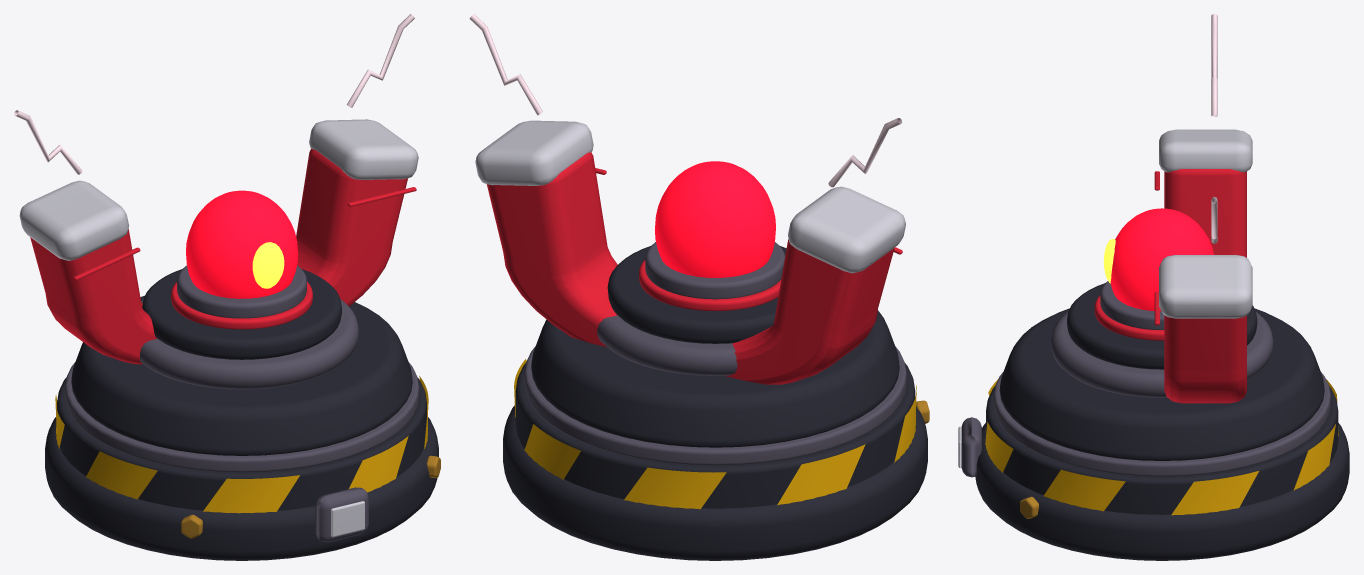
Rendered from magnet-mine.fbx.
3 renders of one model, left to right at view 1: azimuth 30°, elevation 25°; view 2: azimuth 150°, elevation 25°; view 3: azimuth 270°, elevation 25°, orthographic. The views are drawn at different scales.
Visible parts, largest first — view 1: Item_Base_charcoal_rubber, Item_Magnet_lacquer_red, Item_Base_rim_steel, Item_Magnet_brushed_pole_caps, Item_Magnet_red_warning_glass, Item_Base_safety_yellow, FX_VFX_pink_magnetic_sparks, Item_Magnet_warning_filament; view 2: Item_Base_charcoal_rubber, Item_Magnet_lacquer_red, Item_Base_rim_steel, Item_Magnet_brushed_pole_caps, Item_Magnet_red_warning_glass, Item_Base_safety_yellow, FX_VFX_pink_magnetic_sparks; view 3: Item_Base_charcoal_rubber, Item_Base_rim_steel, Item_Magnet_lacquer_red, Item_Magnet_brushed_pole_caps, Item_Base_safety_yellow, Item_Magnet_red_warning_glass, FX_VFX_pink_magnetic_sparks.
Part boxes in pixels (<box>): Item_Base_charcoal_rubber: <box>45,269,438,560</box>; Item_Magnet_lacquer_red: <box>30,148,416,364</box>; Item_Base_rim_steel: <box>65,265,419,542</box>; Item_Magnet_brushed_pole_caps: <box>19,119,418,537</box>; Item_Magnet_red_warning_glass: <box>186,190,298,298</box>; Item_Base_safety_yellow: <box>55,376,428,513</box>; FX_VFX_pink_magnetic_sparks: <box>14,14,414,174</box>; Item_Magnet_warning_filament: <box>252,242,284,288</box>; Item_Base_charcoal_rubber: <box>503,246,927,560</box>; Item_Magnet_lacquer_red: <box>486,152,902,384</box>; Item_Base_rim_steel: <box>524,242,906,465</box>; Item_Magnet_brushed_pole_caps: <box>475,120,905,273</box>; Item_Magnet_red_warning_glass: <box>655,161,775,277</box>; Item_Base_safety_yellow: <box>514,359,916,509</box>; FX_VFX_pink_magnetic_sparks: <box>469,14,901,187</box>; Item_Base_charcoal_rubber: <box>975,283,1349,560</box>; Item_Base_rim_steel: <box>961,281,1330,477</box>; Item_Magnet_lacquer_red: <box>1094,169,1246,403</box>; Item_Magnet_brushed_pole_caps: <box>958,129,1252,467</box>; Item_Base_safety_yellow: <box>985,379,1338,515</box>; Item_Magnet_red_warning_glass: <box>1110,208,1213,311</box>; FX_VFX_pink_magnetic_sparks: <box>1211,14,1217,243</box>.
Bounding box in the file's own units: 101 × 96.58 × 89.75.
